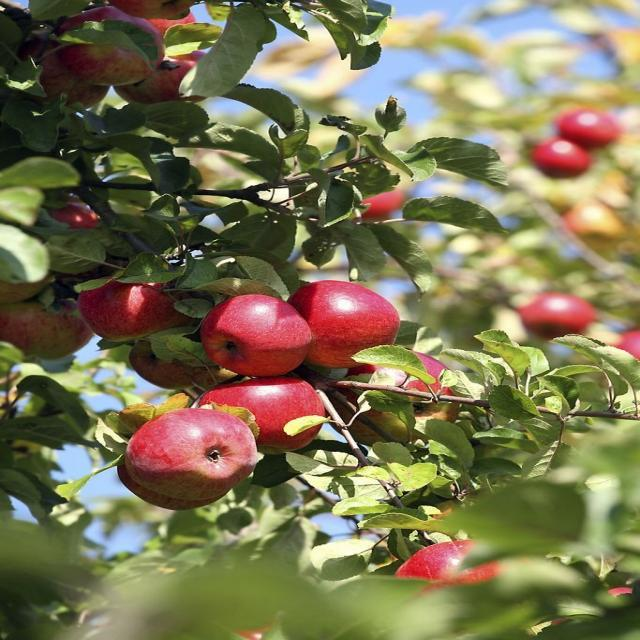Red Apple: (333, 348, 467, 431), (130, 413, 256, 493), (293, 275, 399, 364), (208, 294, 327, 371), (397, 538, 513, 609), (209, 381, 328, 450), (118, 448, 219, 518), (62, 10, 163, 79), (80, 278, 172, 342), (1, 284, 88, 350), (125, 334, 207, 390), (134, 46, 214, 102), (45, 52, 110, 106), (572, 196, 631, 250), (525, 293, 593, 337), (348, 177, 406, 224), (130, 4, 196, 44), (553, 112, 616, 147), (535, 138, 585, 179), (52, 199, 99, 241), (116, 1, 196, 18), (604, 578, 633, 611), (621, 328, 640, 373)
